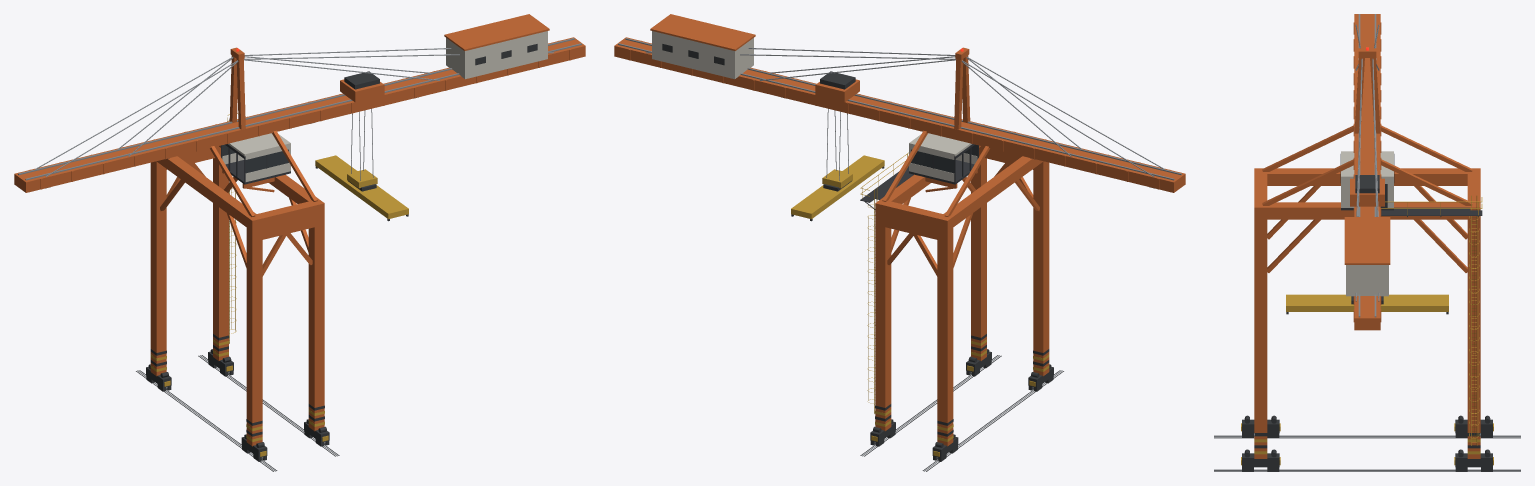
The model's file is veh_gantry_crane.glb.
The picture shows the model from 3 angles, left to right: view 1: azimuth 30°, elevation 25°; view 2: azimuth 150°, elevation 25°; view 3: azimuth 270°, elevation 25°; orthographic projection. The views are drawn at different scales.
Parts seen in each view (by area): view 1: Crane; view 2: Crane; view 3: Crane.
Part boxes in pixels (x1,y1,x2,y2): Crane: (14, 14, 585, 471); Crane: (614, 14, 1185, 471); Crane: (1214, 14, 1520, 471).
Size of the model in its own units: 53.98 by 33.59 by 23.
